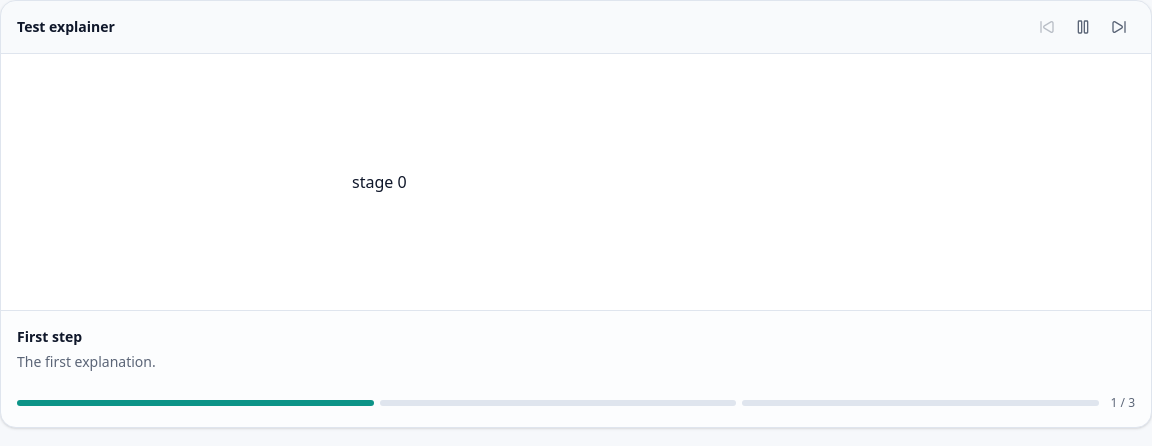
Test: ConceptExplainer › starts over when replayed
Click the button named "Step 3: Third step" at (920, 403), box left=742, top=400, right=1098, bottom=406
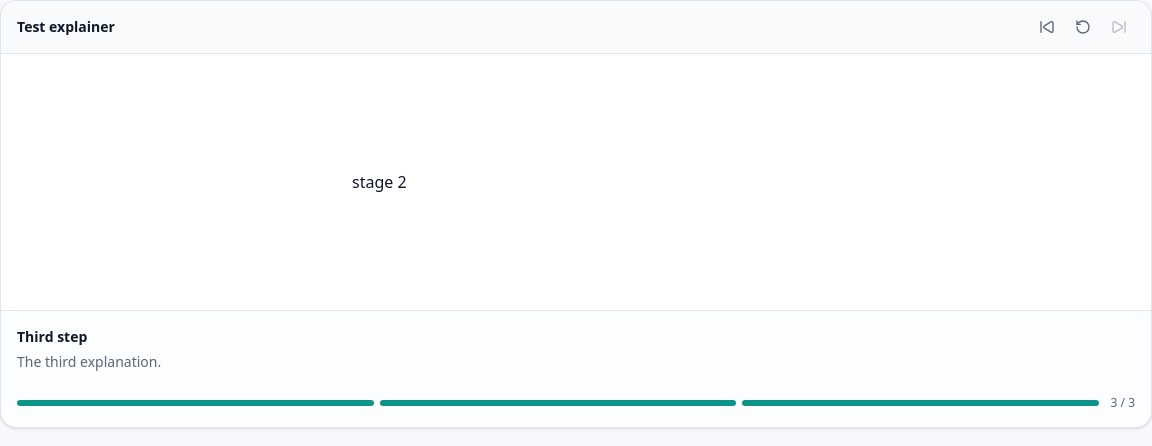
Click the button named "Watch again" at (1083, 27), box left=1067, top=11, right=1099, bottom=43
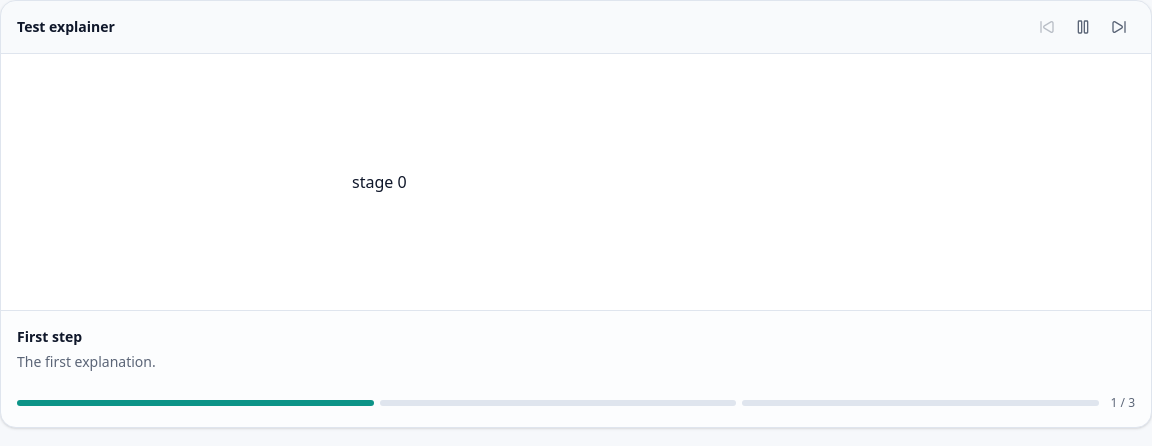
Check: the text "First step" is shown, box left=17, top=327, right=82, bottom=346
Check: the text "1 / 3" is shown, box left=1110, top=395, right=1135, bottom=411
